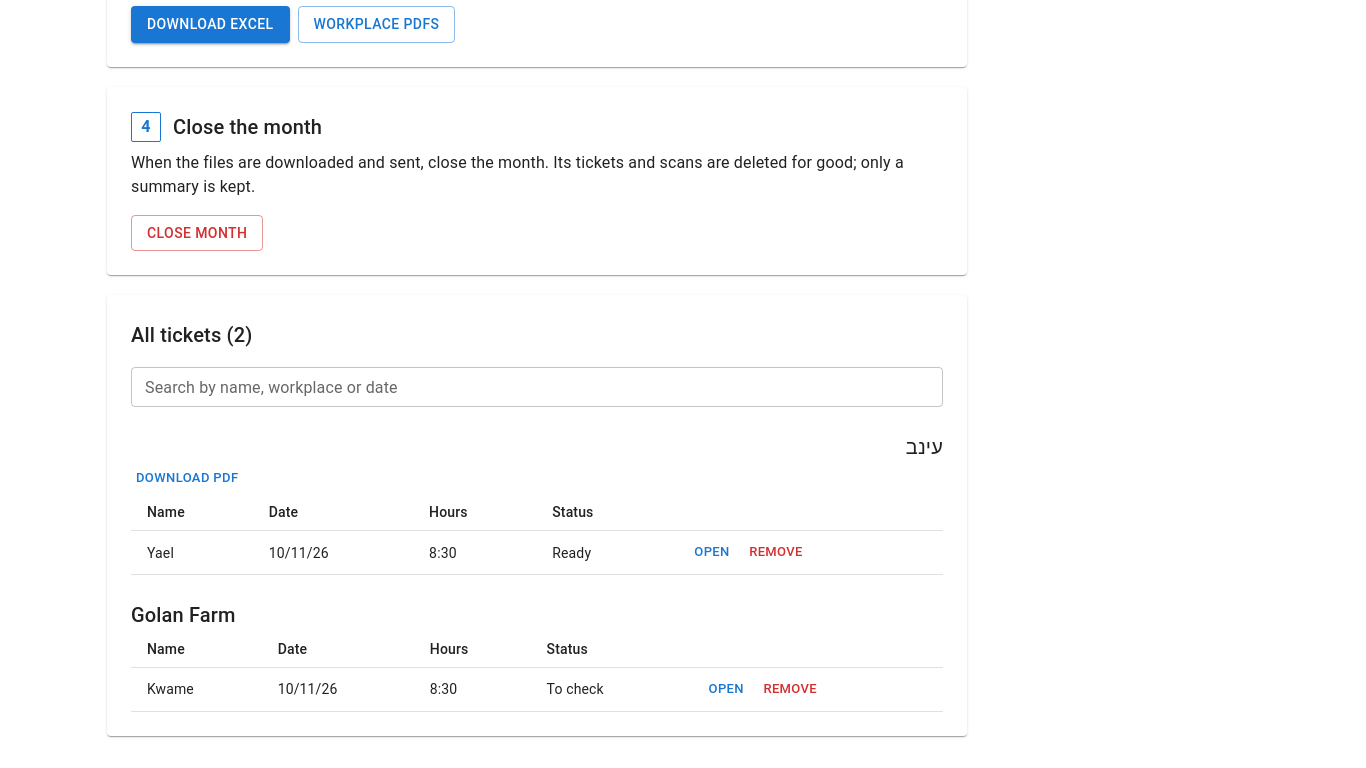
Test: the month page › removes a ticket after asking, naming the version shown
(page scrolled)
Click the button "Remove" in the row of "Yael".
click(776, 553)  # box [744,537,808,568]
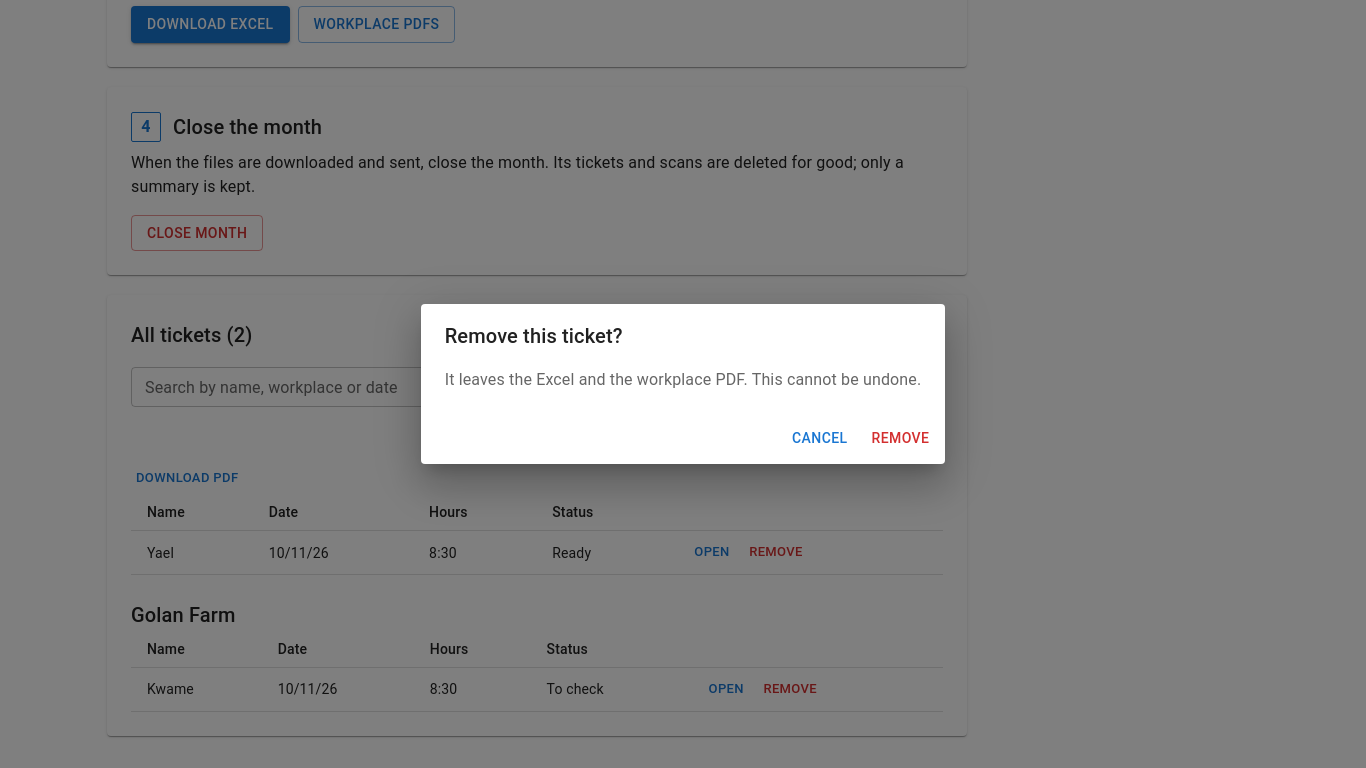
Check: the text "Remove this ticket?" is shown, box [445,324,623,348]
Click the button "Remove".
click(900, 438)  # box [864,420,937,456]
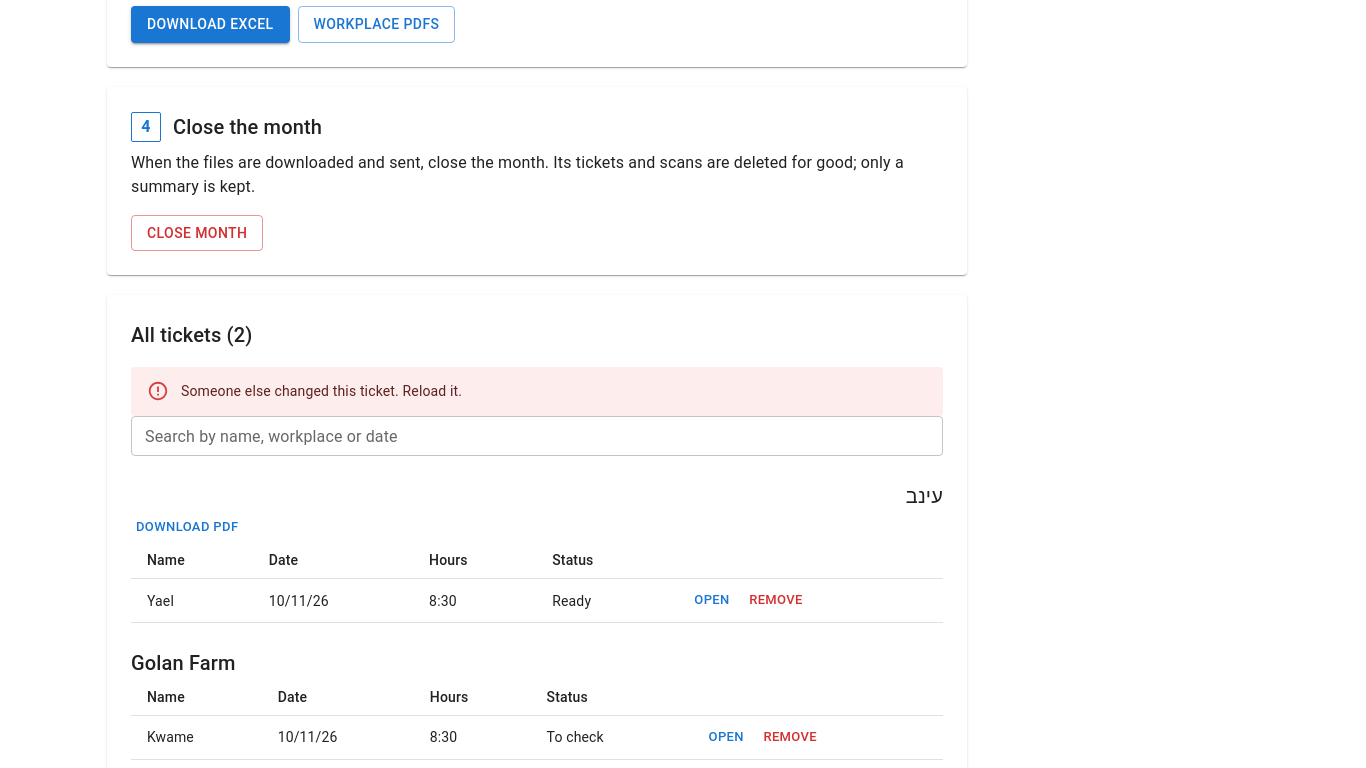
Check: the text "Someone else changed this ticket. Reload it." is shown, box [181,384,462,400]
